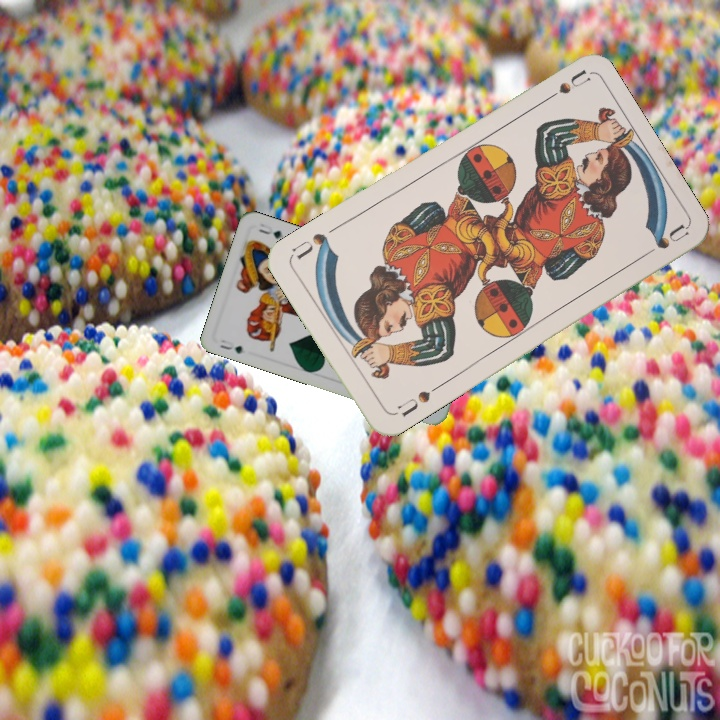GU: (215, 335, 245, 356)
SU: (536, 66, 592, 107), (393, 381, 442, 419)
